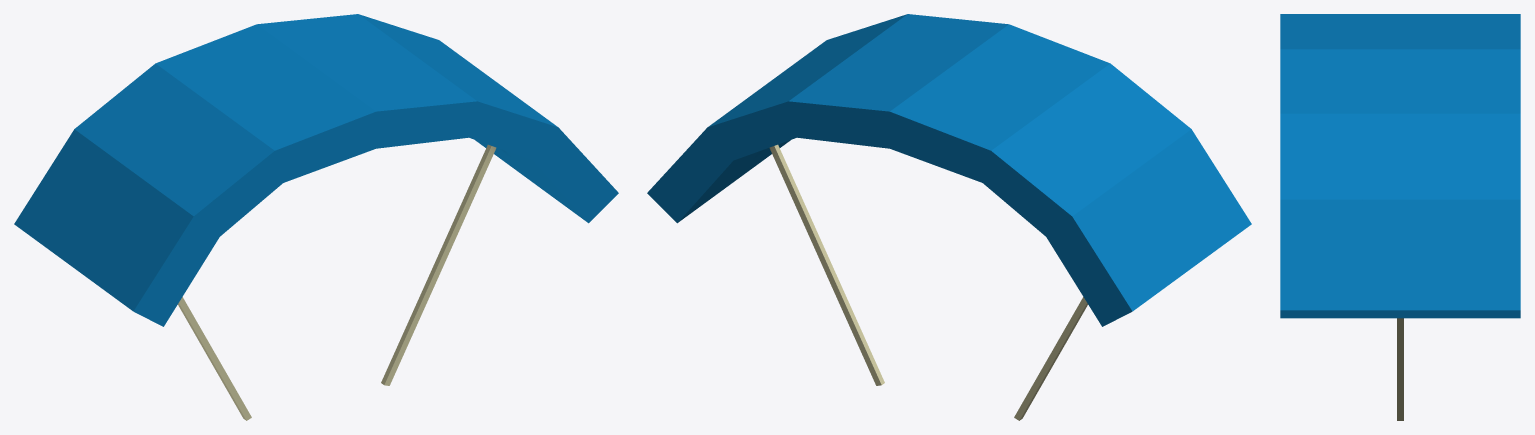
Rendered from Parachute_Blue.FBX.
3 renders of one model, left to right at view 1: azimuth 30°, elevation 25°; view 2: azimuth 150°, elevation 25°; view 3: azimuth 270°, elevation 25°, orthographic.
Parts seen in each view (by area): view 1: Parachute_Blue; view 2: Parachute_Blue; view 3: Parachute_Blue.
Boxes of the visible parts, left/top/right/bottom form: Parachute_Blue: left=14, top=14, right=618, bottom=420; Parachute_Blue: left=647, top=14, right=1251, bottom=420; Parachute_Blue: left=1280, top=14, right=1520, bottom=420.
Bounding box in the file's own units: 18.73 × 12.32 × 7.97.
